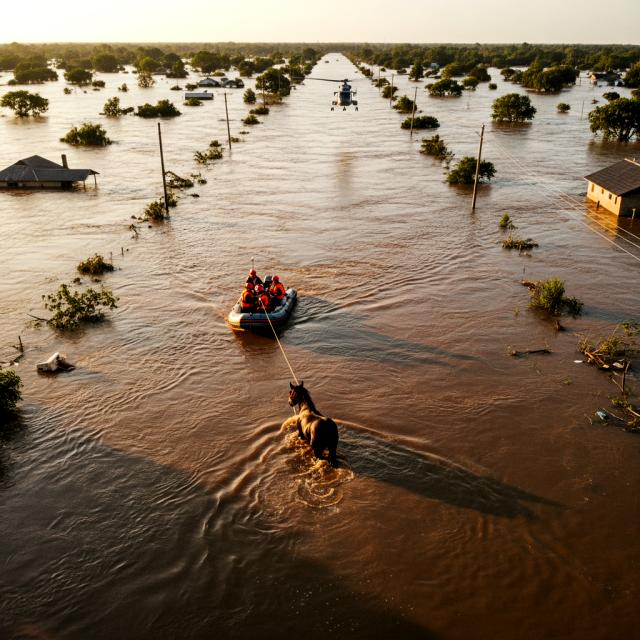horse: (276, 377, 357, 469)
rescuer: (267, 273, 288, 308), (238, 278, 256, 316), (246, 267, 266, 293)
